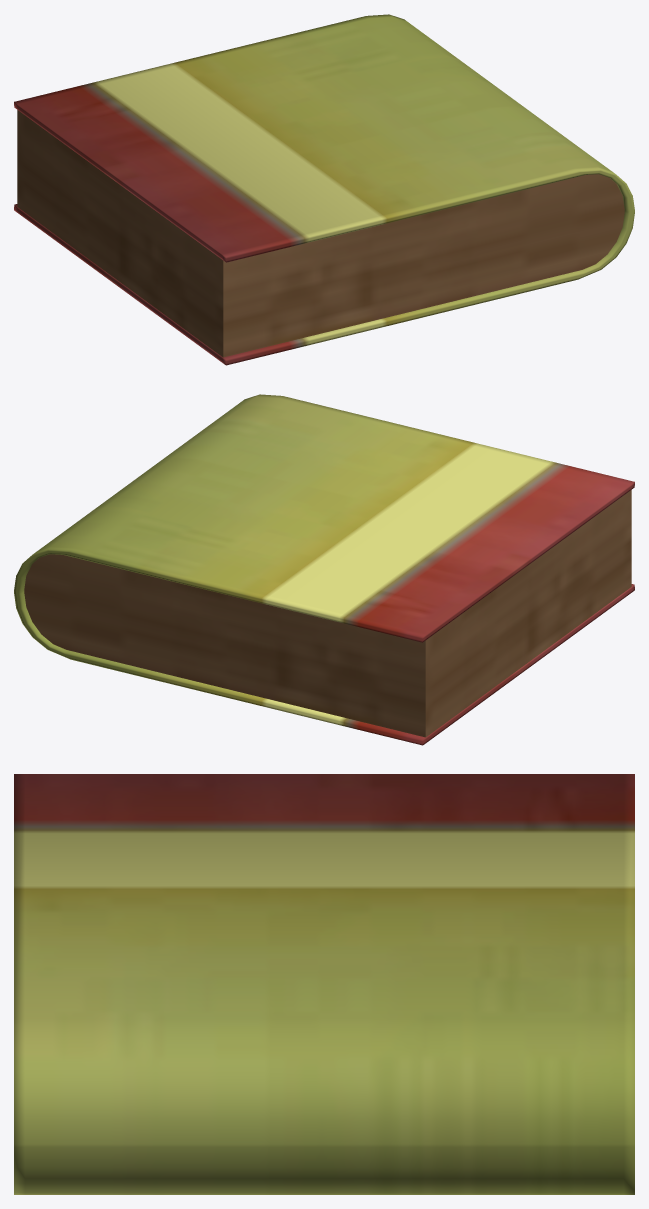
File: BOOK 6.fbx
3 renders of one model, top to bottom at view 1: azimuth 30°, elevation 25°; view 2: azimuth 150°, elevation 25°; view 3: azimuth 270°, elevation 25°, orthographic. The views are drawn at different scales.
Parts seen in each view (by area): view 1: BOOK 6; view 2: BOOK 6; view 3: BOOK 6.
Part boxes in pixels (x1,y1,x2,y2): BOOK 6: (14,14,634,365); BOOK 6: (14,394,634,745); BOOK 6: (14,774,634,1194).
Bounding box in the file's own units: 0.6702 × 0.6018 × 0.1699.
